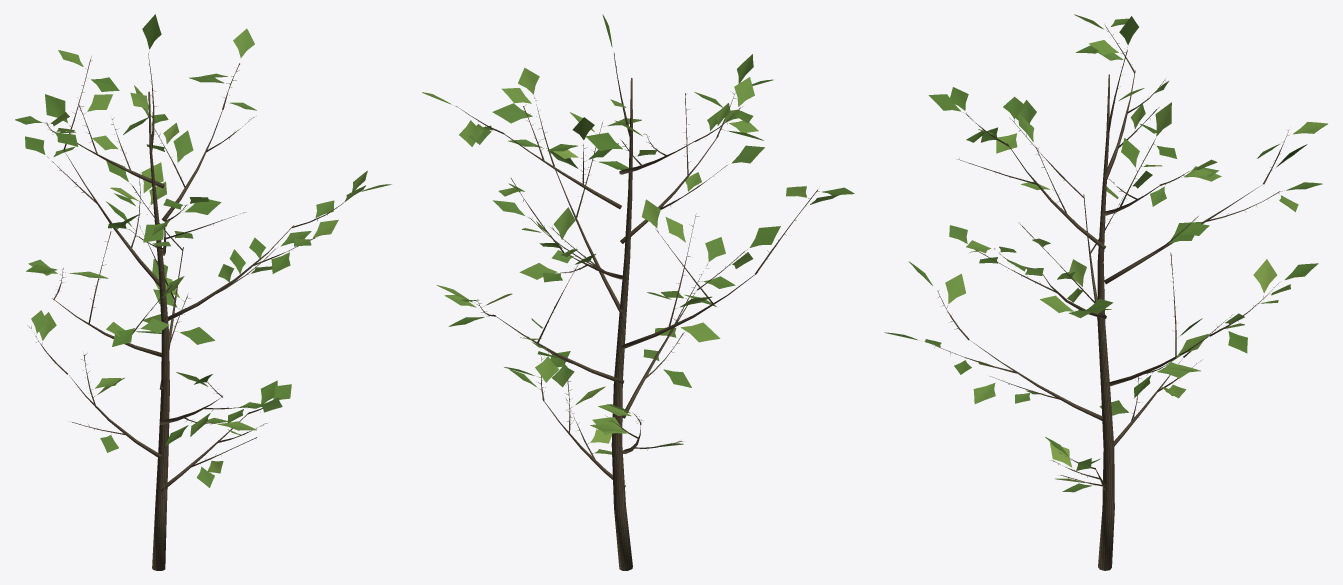
File: Sessile_Oak_Sapling_01_LOD2.fbx
3 views of the same model, side by side, from view 1: azimuth 30°, elevation 25°; view 2: azimuth 150°, elevation 25°; view 3: azimuth 270°, elevation 25° (orthographic). The views are drawn at different scales.
Visible parts, largest first — view 1: Sessile_Oak_Sapling_01_Foliage_LOD2, Sessile_Oak_Sapling_01_Bark_LOD2; view 2: Sessile_Oak_Sapling_01_Foliage_LOD2, Sessile_Oak_Sapling_01_Bark_LOD2; view 3: Sessile_Oak_Sapling_01_Foliage_LOD2, Sessile_Oak_Sapling_01_Bark_LOD2.
Part boxes in pixels (bbox=[...]): Sessile_Oak_Sapling_01_Foliage_LOD2: bbox=[15, 14, 391, 487]; Sessile_Oak_Sapling_01_Bark_LOD2: bbox=[27, 51, 350, 570]; Sessile_Oak_Sapling_01_Foliage_LOD2: bbox=[422, 14, 854, 454]; Sessile_Oak_Sapling_01_Bark_LOD2: bbox=[455, 52, 819, 570]; Sessile_Oak_Sapling_01_Foliage_LOD2: bbox=[884, 14, 1327, 492]; Sessile_Oak_Sapling_01_Bark_LOD2: bbox=[924, 24, 1289, 570].
Bounding box in the file's own units: 133 × 200 × 145.
5 materials, 1 textured.
